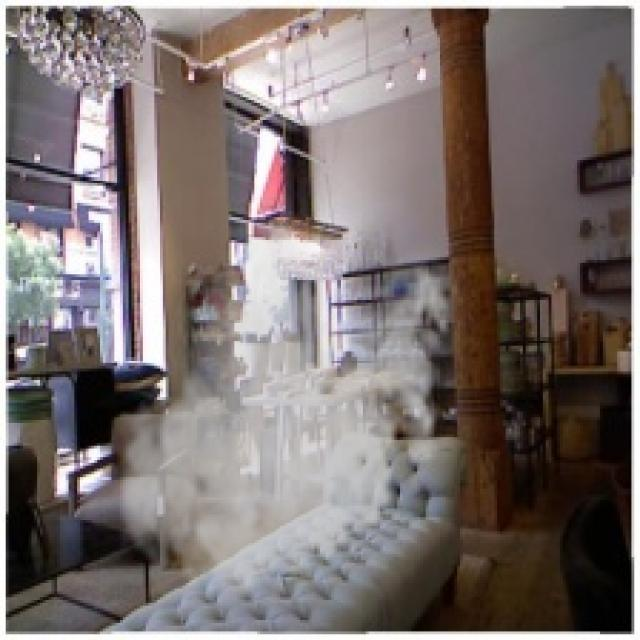Smoke: (111, 220, 463, 614)
